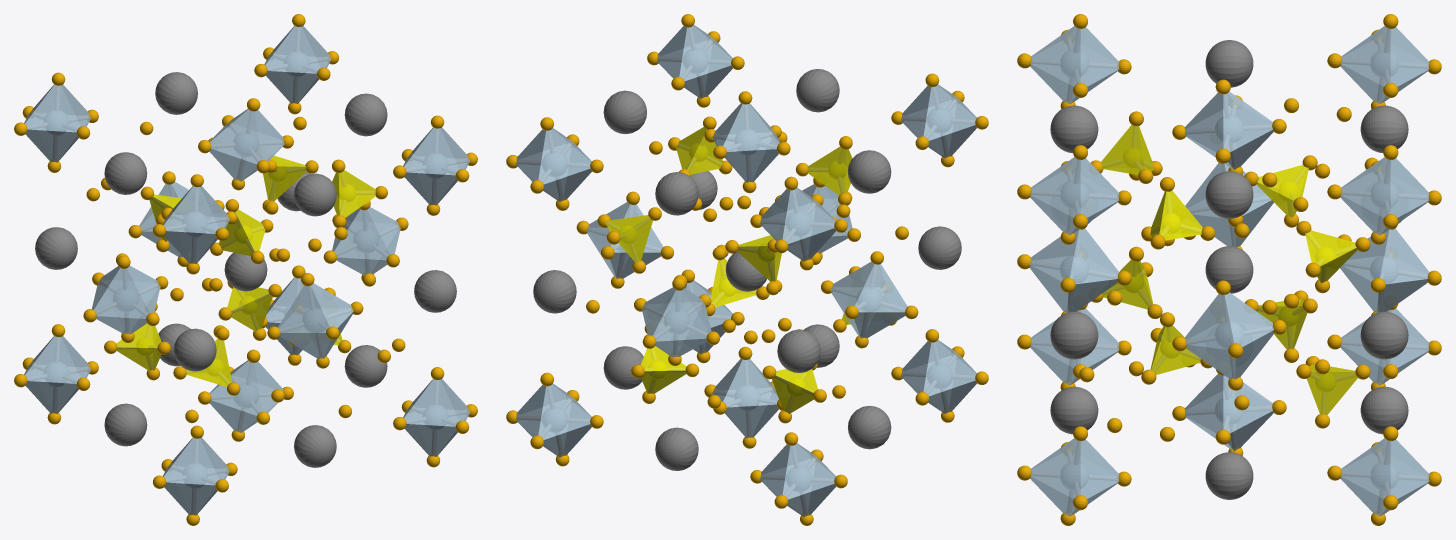
The model's file is Alum_structure.fbx.
3 views of the same model, side by side, from view 1: azimuth 30°, elevation 25°; view 2: azimuth 150°, elevation 25°; view 3: azimuth 270°, elevation 25° (orthographic). The views are drawn at different scales.
Parts seen in each view (by area): view 1: Shape_IndexedFaceSet.021, Shape_IndexedFaceSet.038, Shape_IndexedFaceSet.029, Shape_IndexedFaceSet.084, Shape_IndexedFaceSet.092, Shape_IndexedFaceSet.052, Shape_IndexedFaceSet.076, Shape_IndexedFaceSet.060, Shape_IndexedFaceSet.068, Shape_IndexedFaceSet.108, Shape_IndexedFaceSet.015, Shape_IndexedFaceSet.046 (+65 smaller); view 2: Shape_IndexedFaceSet.005, Shape_IndexedFaceSet.078, Shape_IndexedFaceSet.086, Shape_IndexedFaceSet.054, Shape_IndexedFaceSet.070, Shape_IndexedFaceSet.094, Shape_IndexedFaceSet.102, Shape_IndexedFaceSet.062, Shape_IndexedFaceSet.036, Shape_IndexedFaceSet.044, Shape_IndexedFaceSet.023, atom0_IndexedFaceSet.008 (+76 smaller); view 3: Shape_IndexedFaceSet.056, Shape_IndexedFaceSet.104, Shape_IndexedFaceSet.088, Shape_IndexedFaceSet.032, Shape_IndexedFaceSet.048, Shape_IndexedFaceSet.080, Shape_IndexedFaceSet.096, atom0_IndexedFaceSet.009, atom0_IndexedFaceSet.001, atom0_IndexedFaceSet.002, atom0_IndexedFaceSet.010, atom0_IndexedFaceSet.012 (+101 smaller).
Part boxes in pixels (bbox=[...]): Shape_IndexedFaceSet.021: bbox=[94, 268, 149, 318]; Shape_IndexedFaceSet.038: bbox=[210, 109, 262, 164]; Shape_IndexedFaceSet.029: bbox=[334, 209, 389, 260]; Shape_IndexedFaceSet.084: bbox=[265, 26, 320, 73]; Shape_IndexedFaceSet.092: bbox=[404, 127, 459, 175]; Shape_IndexedFaceSet.052: bbox=[25, 84, 80, 132]; Shape_IndexedFaceSet.076: bbox=[164, 437, 219, 485]; Shape_IndexedFaceSet.060: bbox=[163, 186, 218, 233]; Shape_IndexedFaceSet.068: bbox=[25, 336, 80, 383]; Shape_IndexedFaceSet.108: bbox=[404, 379, 459, 426]; Shape_IndexedFaceSet.015: bbox=[278, 285, 329, 332]; Shape_IndexedFaceSet.046: bbox=[210, 361, 262, 415]; Shape_IndexedFaceSet.005: bbox=[653, 290, 709, 341]; Shape_IndexedFaceSet.078: bbox=[923, 340, 976, 396]; Shape_IndexedFaceSet.086: bbox=[538, 128, 591, 184]; Shape_IndexedFaceSet.054: bbox=[782, 188, 835, 243]; Shape_IndexedFaceSet.070: bbox=[782, 443, 835, 499]; Shape_IndexedFaceSet.094: bbox=[679, 25, 732, 81]; Shape_IndexedFaceSet.102: bbox=[538, 384, 591, 439]; Shape_IndexedFaceSet.062: bbox=[923, 85, 976, 140]; Shape_IndexedFaceSet.036: bbox=[723, 103, 779, 151]; Shape_IndexedFaceSet.044: bbox=[723, 359, 778, 407]; Shape_IndexedFaceSet.023: bbox=[855, 264, 907, 312]; atom0_IndexedFaceSet.008: bbox=[655, 172, 698, 215]; Shape_IndexedFaceSet.056: bbox=[1030, 26, 1080, 86]; Shape_IndexedFaceSet.104: bbox=[1031, 438, 1080, 498]; Shape_IndexedFaceSet.088: bbox=[1031, 157, 1080, 217]; Shape_IndexedFaceSet.032: bbox=[1223, 91, 1272, 152]; Shape_IndexedFaceSet.048: bbox=[1341, 26, 1390, 86]; Shape_IndexedFaceSet.080: bbox=[1341, 157, 1390, 217]; Shape_IndexedFaceSet.096: bbox=[1341, 438, 1390, 498]; atom0_IndexedFaceSet.009: bbox=[1205, 452, 1253, 499]; atom0_IndexedFaceSet.001: bbox=[1050, 311, 1098, 359]; atom0_IndexedFaceSet.002: bbox=[1360, 311, 1408, 359]; atom0_IndexedFaceSet.010: bbox=[1205, 171, 1253, 218]; atom0_IndexedFaceSet.012: bbox=[1205, 40, 1253, 87].
Size of the model in its own units: 1667 by 1667 by 1667.
